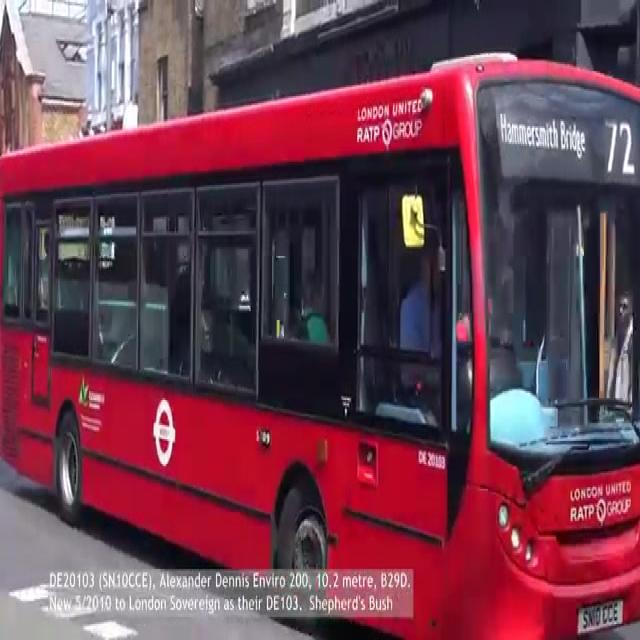bus: (1, 37, 640, 632)
